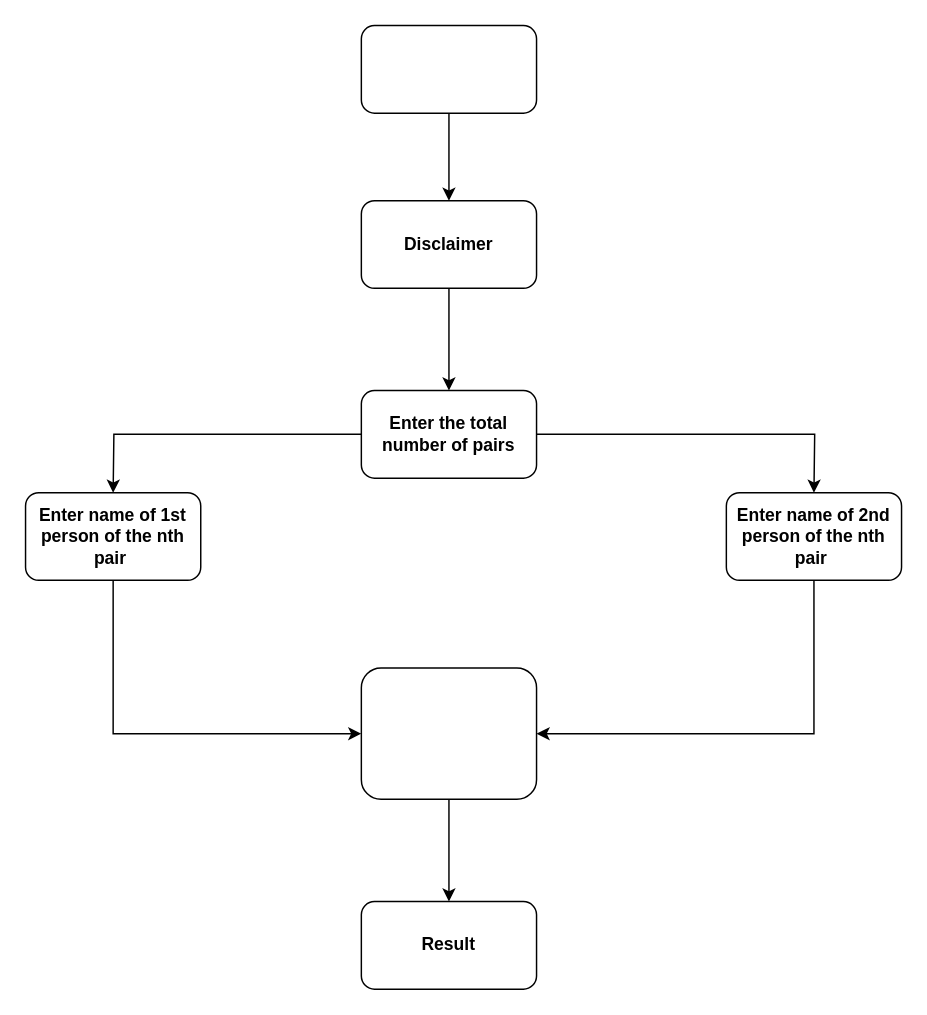
This 927x1015 diagram has some shape labels left out. Here are the shapes that lost their labels. From the top down, the centre of each, then its label:
point 448,68: Terminal
point 448,732: Choose any one method that you want to use
